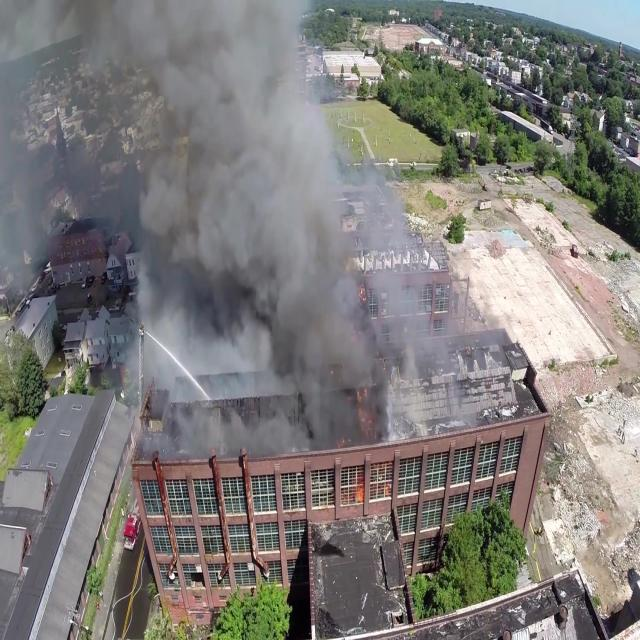Fire: (342, 463, 398, 510)
Smoke: (0, 0, 396, 430)
